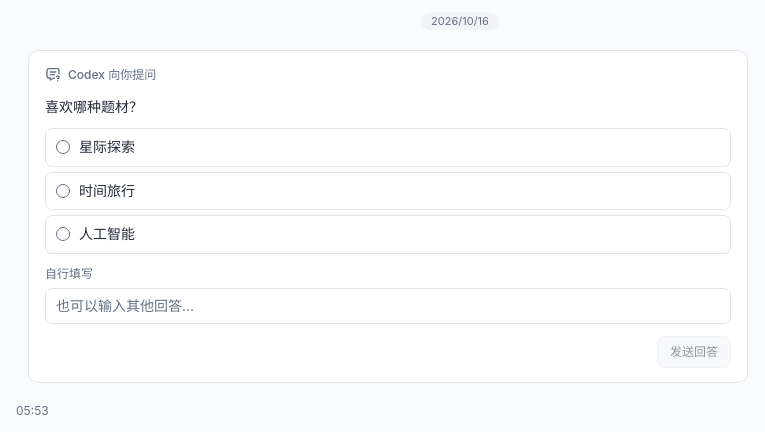
Test: renders async choices in the real desktop transcript and sends ordinary user input
The image size is (765, 432).
Step 1. Click the radio button labelled "时间旅行" → (63, 191), box [56,184,70,198]
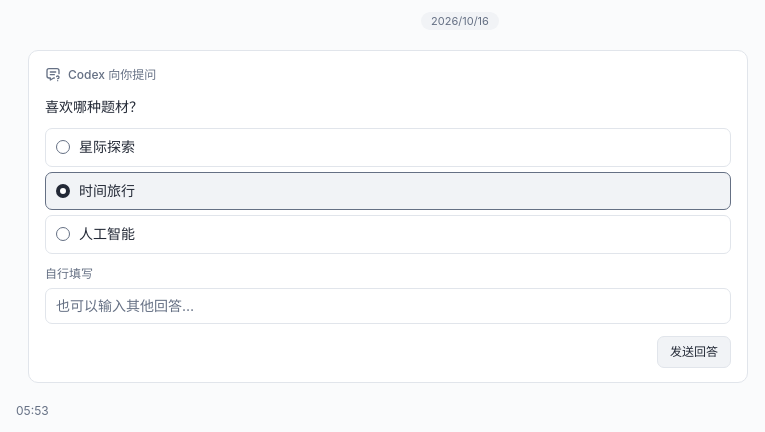
Step 2. Click the button "发送回答" → (694, 352), box [657,336,731,368]
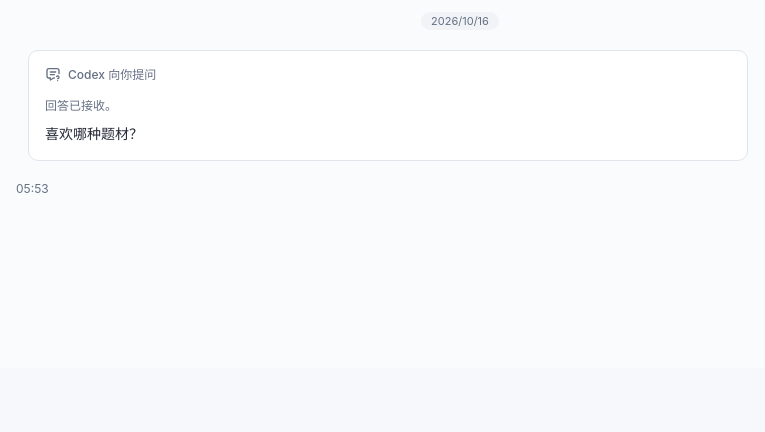
expect the text "回答已接收。" is shown: met, box [45,98,117,113]
